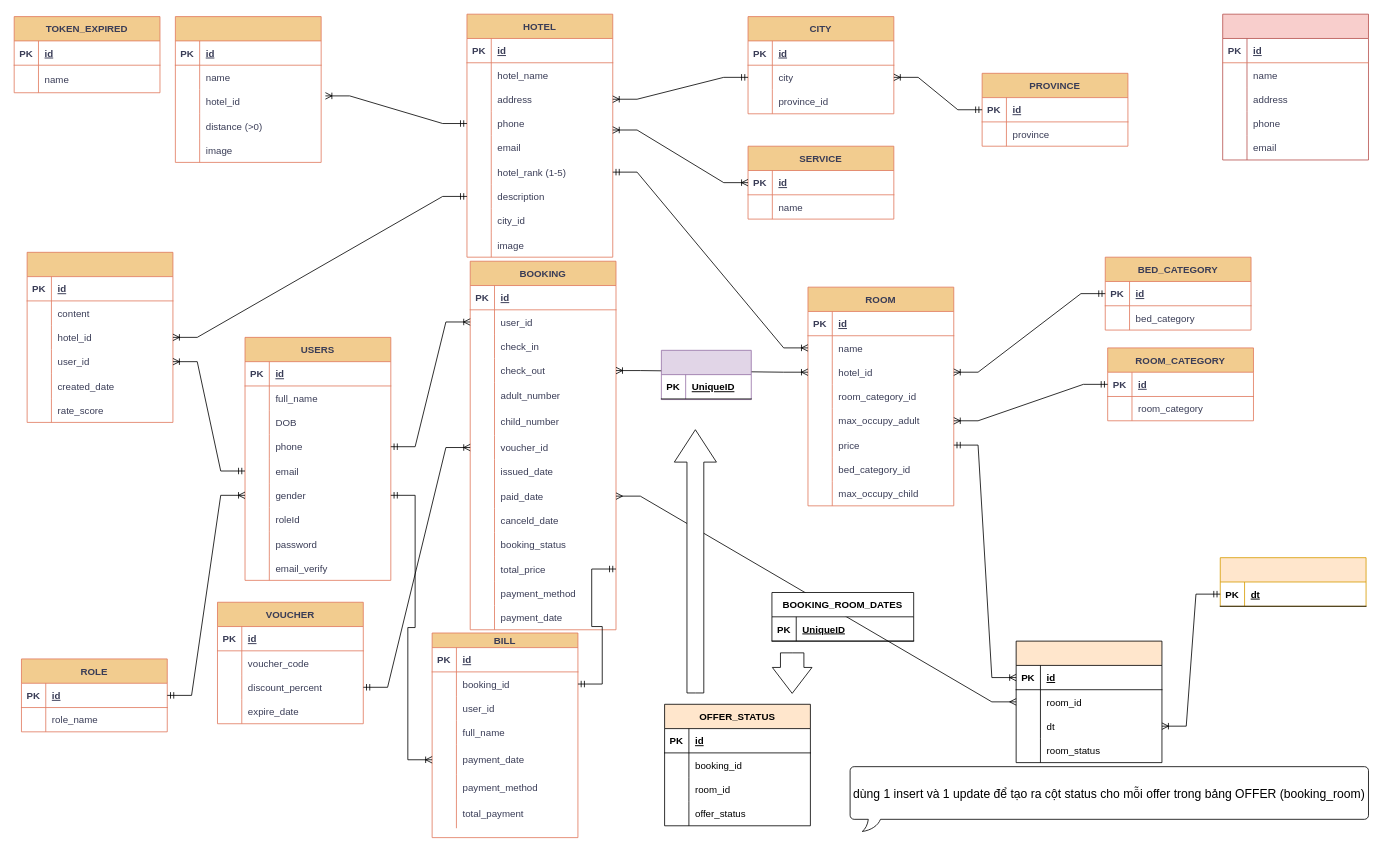
Image size: 1383x852. Some labels were removed from this diagram. The box of each missing label's shape, as (x1, y1, x2, y2) in pixels:
ATTRACTION: (175, 16, 321, 162)
BOOKING_ROOM: (661, 350, 751, 400)
CALENDAR_TABLE: (1219, 557, 1366, 606)
CONTACT: (1222, 13, 1368, 160)
INSERT: (772, 652, 812, 693)
REVIEW: (26, 252, 173, 422)
ROOM_DATES: (1015, 640, 1162, 763)
UPDATE: (674, 429, 716, 693)
